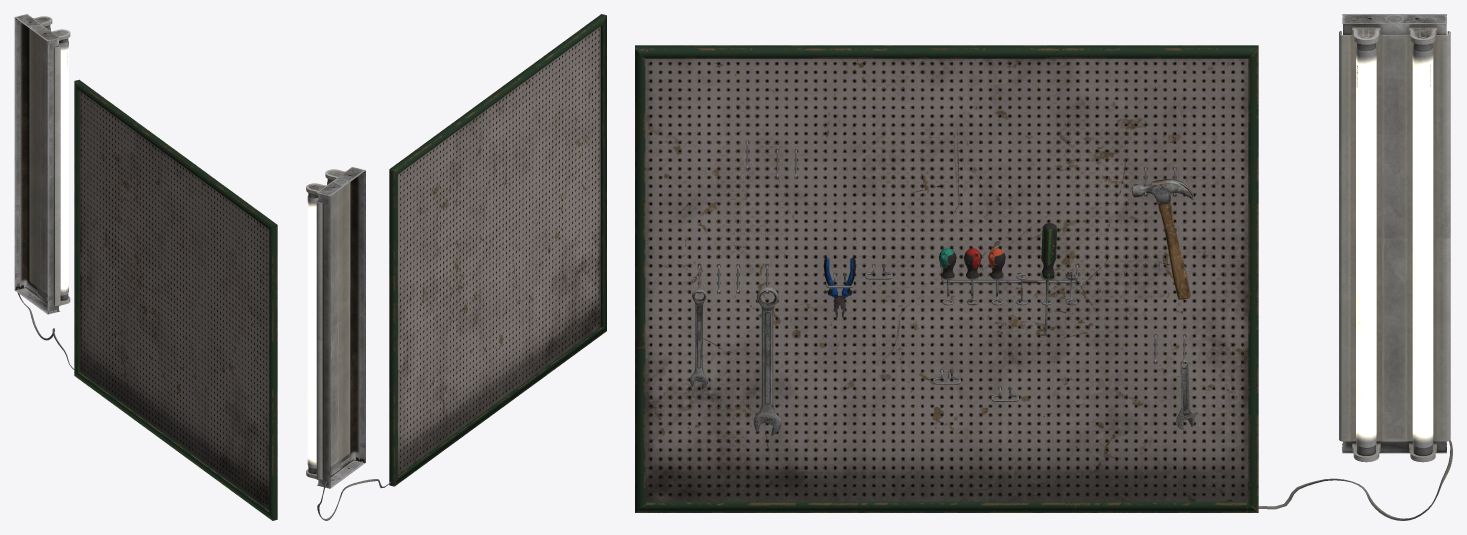
File: eski_tezgah_panosu.gltf
3 renders of one model, left to right at view 1: azimuth 30°, elevation 25°; view 2: azimuth 150°, elevation 25°; view 3: azimuth 270°, elevation 25°, orthographic. The views are drawn at different scales.
Visible parts, largest first — view 1: eski_tezgah_panosu; view 2: eski_tezgah_panosu; view 3: eski_tezgah_panosu.
Boxes of the visible parts, x1=… form: eski_tezgah_panosu: x1=14, y1=14, x2=277, y2=520; eski_tezgah_panosu: x1=306, y1=14, x2=606, y2=520; eski_tezgah_panosu: x1=635, y1=14, x2=1452, y2=520.
Size of what is drawn, in the model's own units: 0.1082 by 1.11 by 1.66.
Materials: 3 (3 with a texture image).
